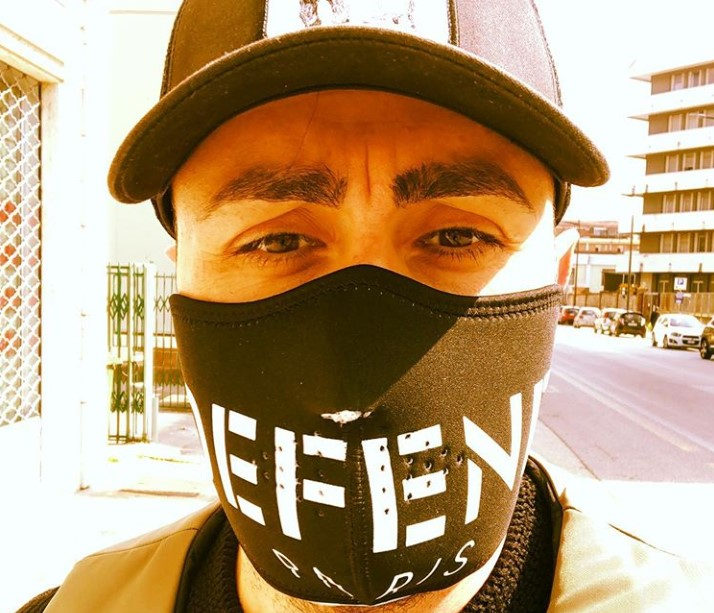face_with_mask: (150, 0, 602, 610)
